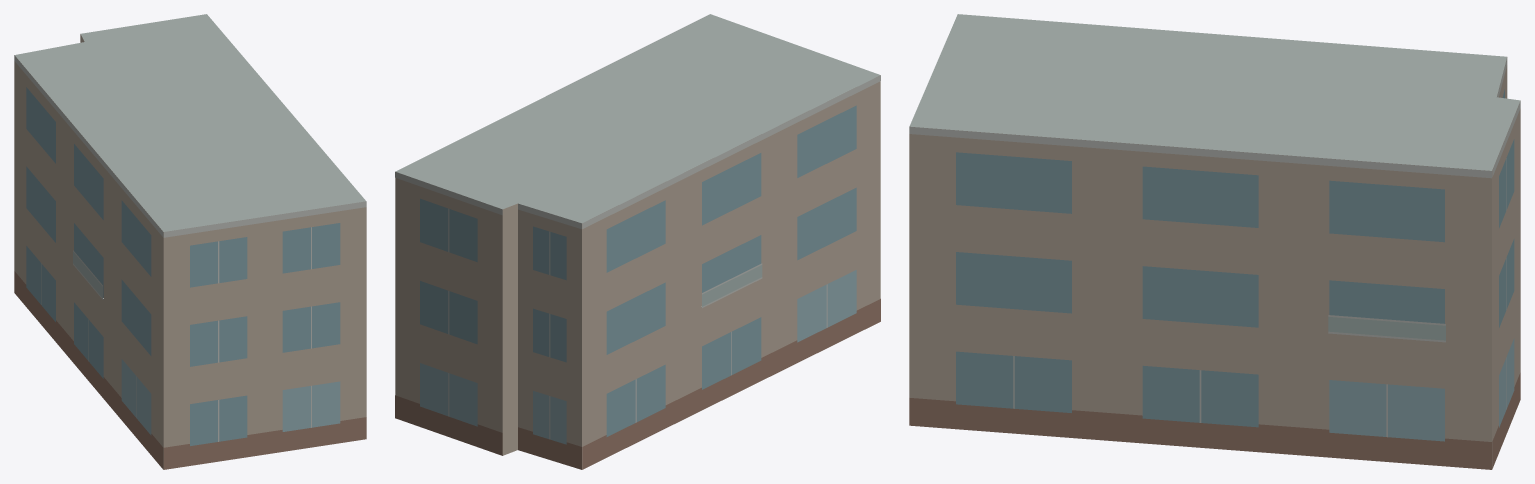
Rendered from survey-upis-32767743.glb.
3 renders of one model, left to right at view 1: azimuth 30°, elevation 25°; view 2: azimuth 150°, elevation 25°; view 3: azimuth 270°, elevation 25°, orthographic. The views are drawn at different scales.
Parts seen in each view (by area): view 1: survey-upis-32767743.tmp; view 2: survey-upis-32767743.tmp; view 3: survey-upis-32767743.tmp.
Boxes of the visible parts, x1,y1,x2,y2 form: survey-upis-32767743.tmp: [14, 14, 366, 469]; survey-upis-32767743.tmp: [395, 14, 880, 469]; survey-upis-32767743.tmp: [909, 14, 1520, 469].
Size of the model in its own units: 11.27 by 10 by 18.55.
